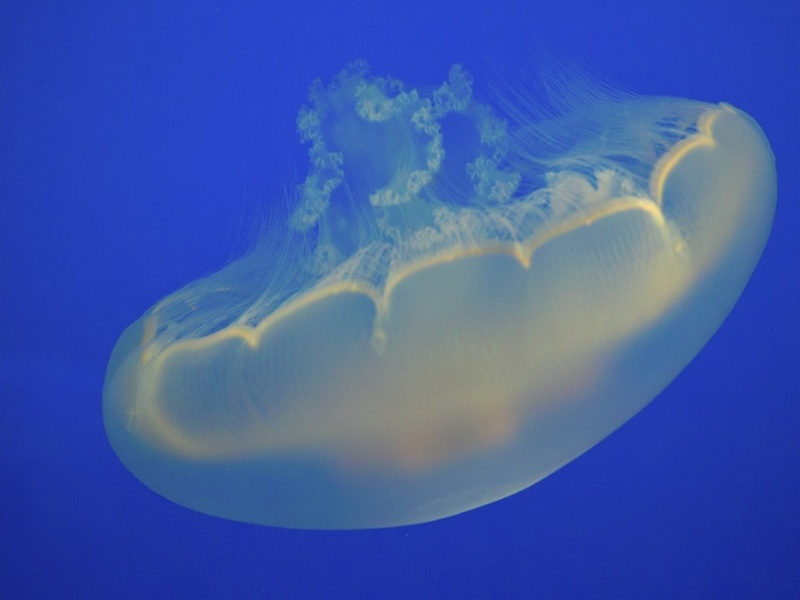Jellyfish: (98, 25, 779, 531)
